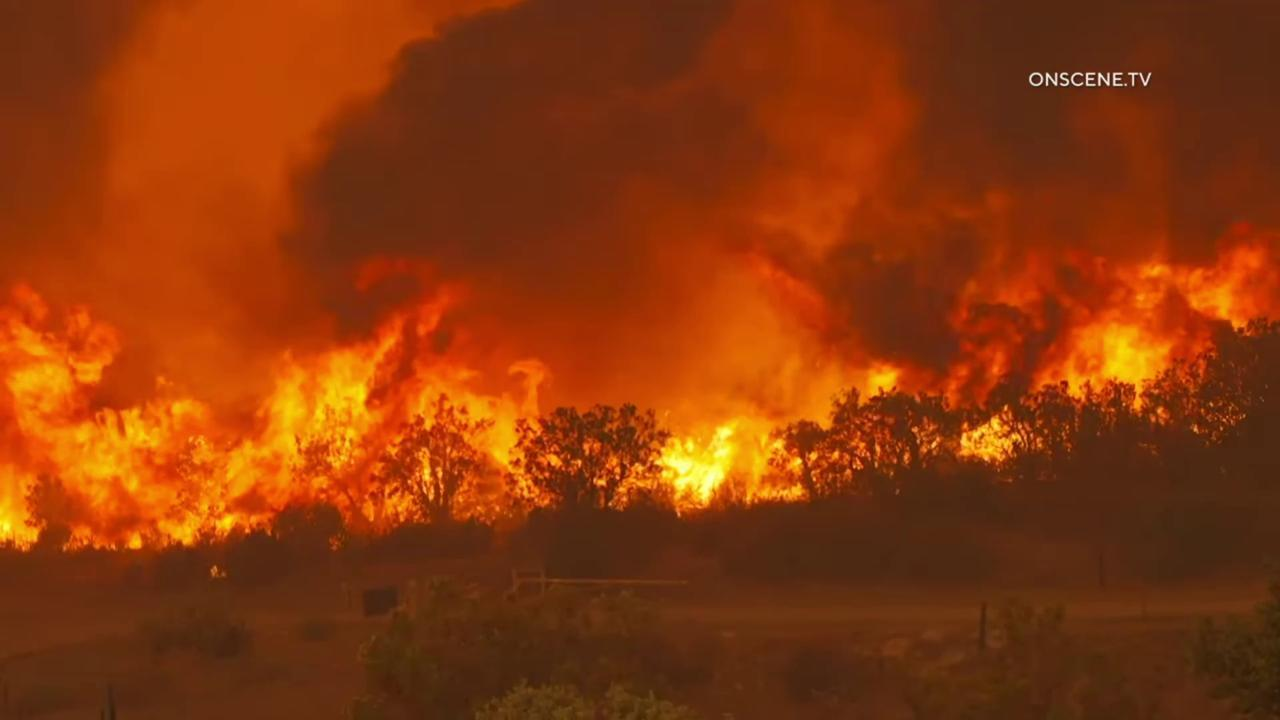fire: (594, 215, 1280, 515), (0, 215, 583, 557)
smoke: (0, 0, 1280, 720)
